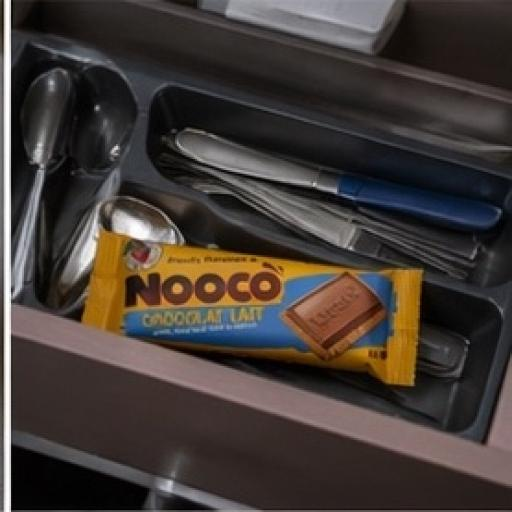nooco: (79, 220, 440, 410)
